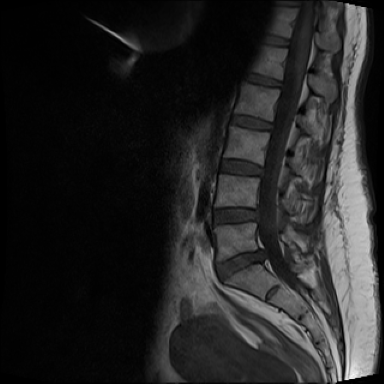Lumbar Disc Bulge (LDB): (211, 242, 273, 289), (207, 203, 268, 233)
Normal IVD: (212, 152, 269, 182), (224, 110, 279, 137), (237, 69, 286, 93)
Spinal Stenosis (SS): (247, 202, 266, 229), (256, 246, 274, 270)
